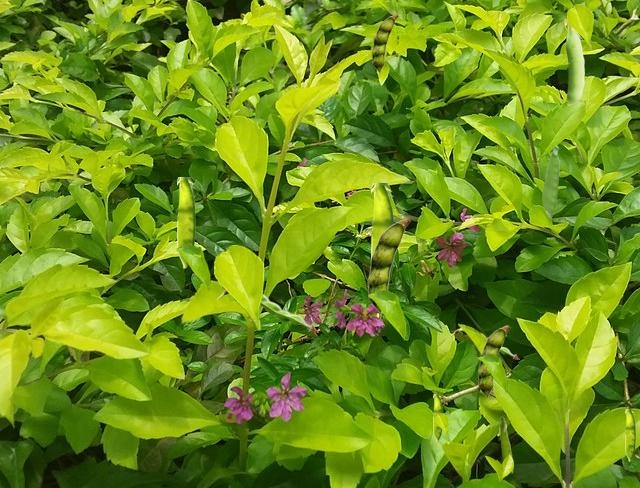pea: (368, 218, 409, 318), (217, 290, 317, 331), (478, 325, 509, 401), (371, 183, 393, 283), (450, 328, 518, 358), (562, 14, 583, 104), (177, 177, 194, 267), (372, 14, 397, 75), (542, 145, 558, 216), (499, 416, 512, 472), (625, 409, 634, 460), (433, 394, 441, 440)
